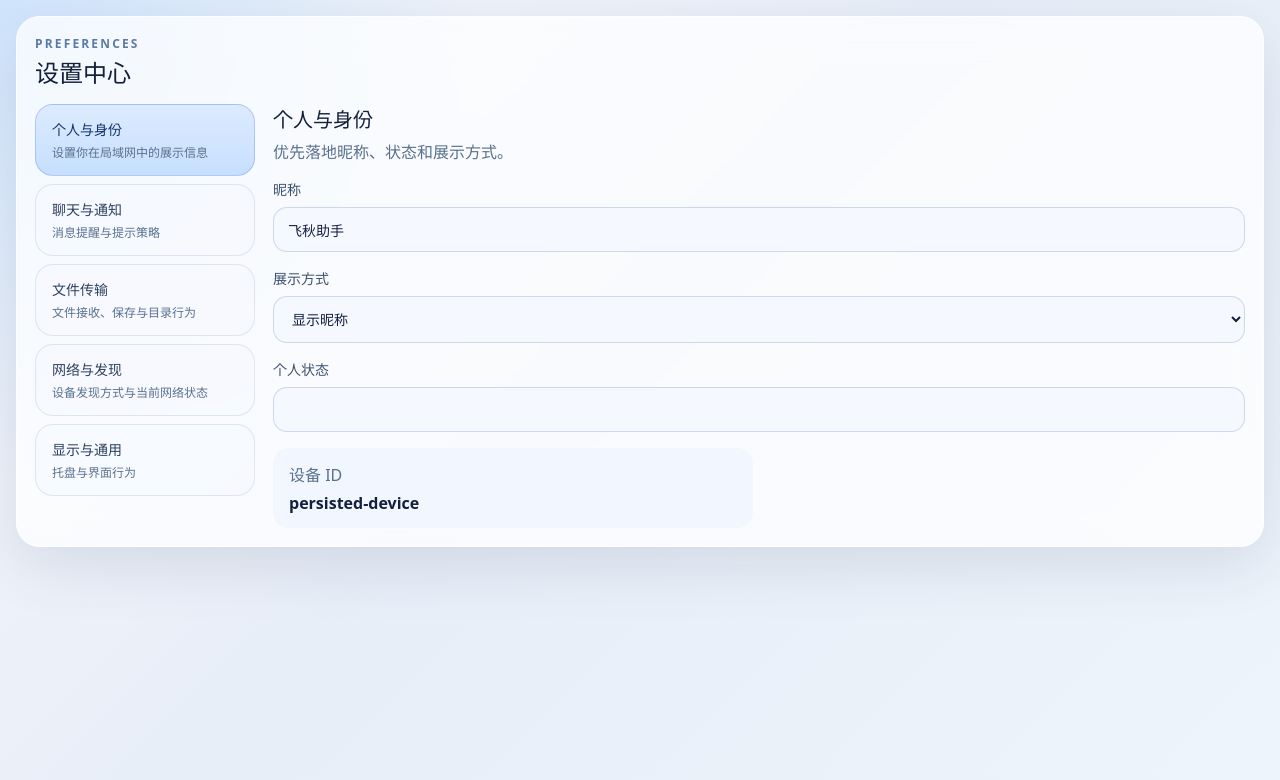
Test: shows refresh history summary rules for each metric
The width and height of the screenshot is (1280, 780).
Click the button "网络与发现 设备发现方式与当前网络状态".
click(145, 380)  # box [35, 344, 255, 416]
(page scrolled)
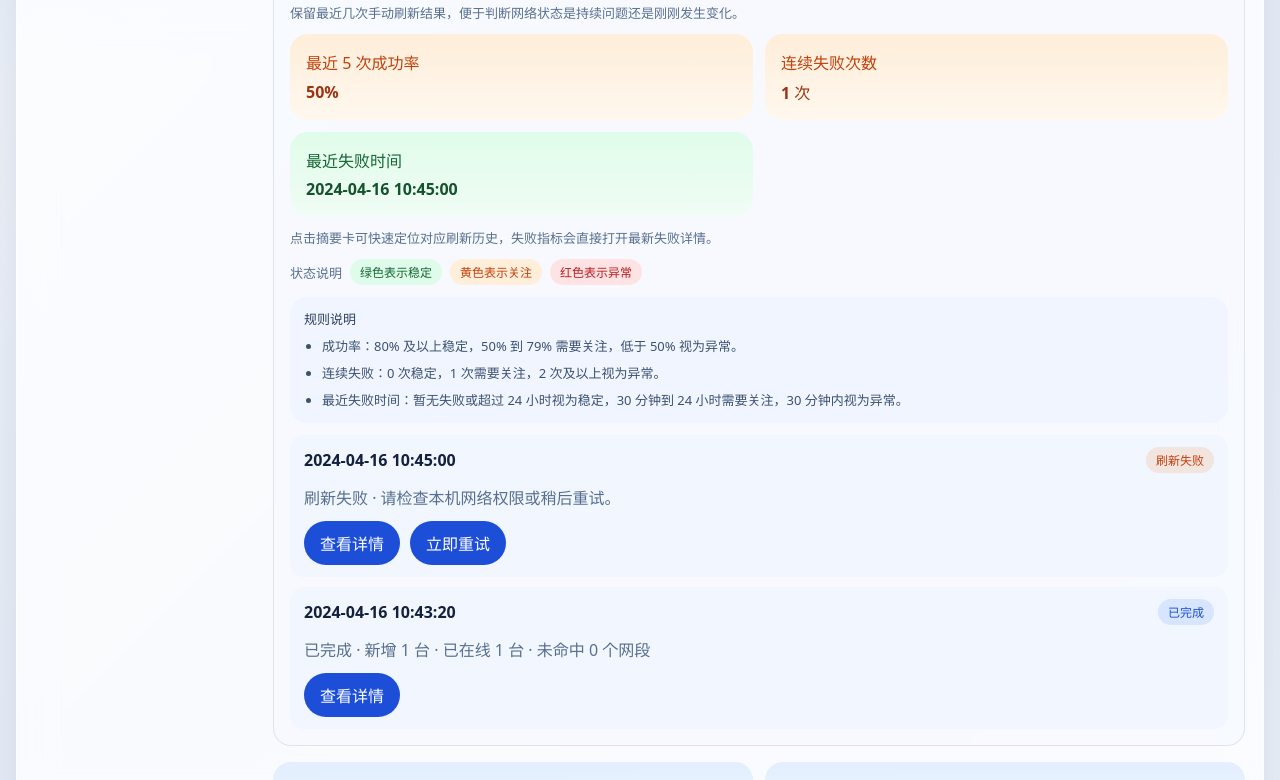
Result: the list item "成功率：80% 及以上稳定，50% 到 79% 需要关注，低于 50% 视为异常。" is shown at [322, 337, 744, 355]
Result: the list item "连续失败：0 次稳定，1 次需要关注，2 次及以上视为异常。" is shown at [322, 364, 666, 382]
Result: the list item "最近失败时间：暂无失败或超过 24 小时视为稳定，30 分钟到 24 小时需要关注，30 分钟内视为异常。" is shown at [322, 391, 909, 409]
